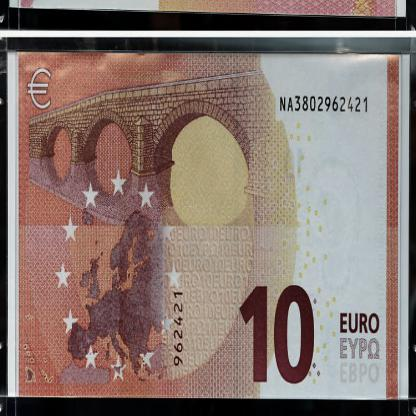euro_banknote: (7, 53, 412, 400)
